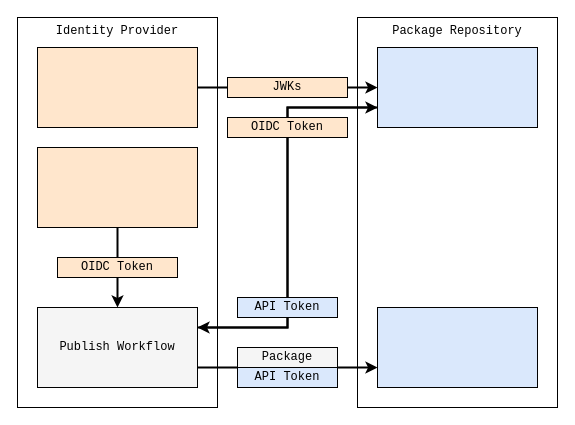
The diagram is 575 pixels wide and 425 high, and some of its shapes have lost their labels. The shapes that lost their labels are listed below. From the top down, each one's centre as x and y in pixels, then its label:
the point at 117,87: OIDC Configuration and JSON Web Keysets
the point at 457,87: OIDC Token Exchange Service
the point at 117,187: OIDC Service
the point at 457,347: Package Publish API Service
